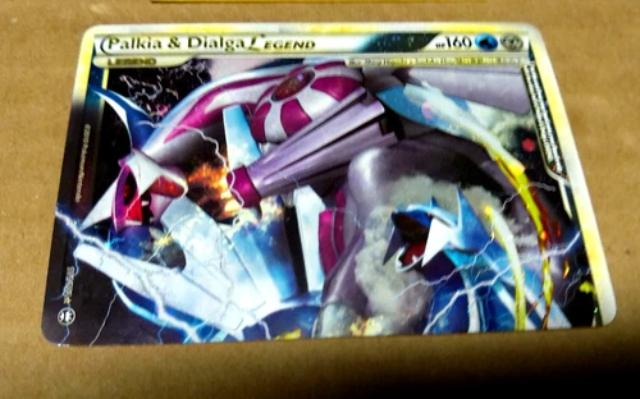Card: (35, 19, 619, 351)
Name: (101, 32, 322, 55)
